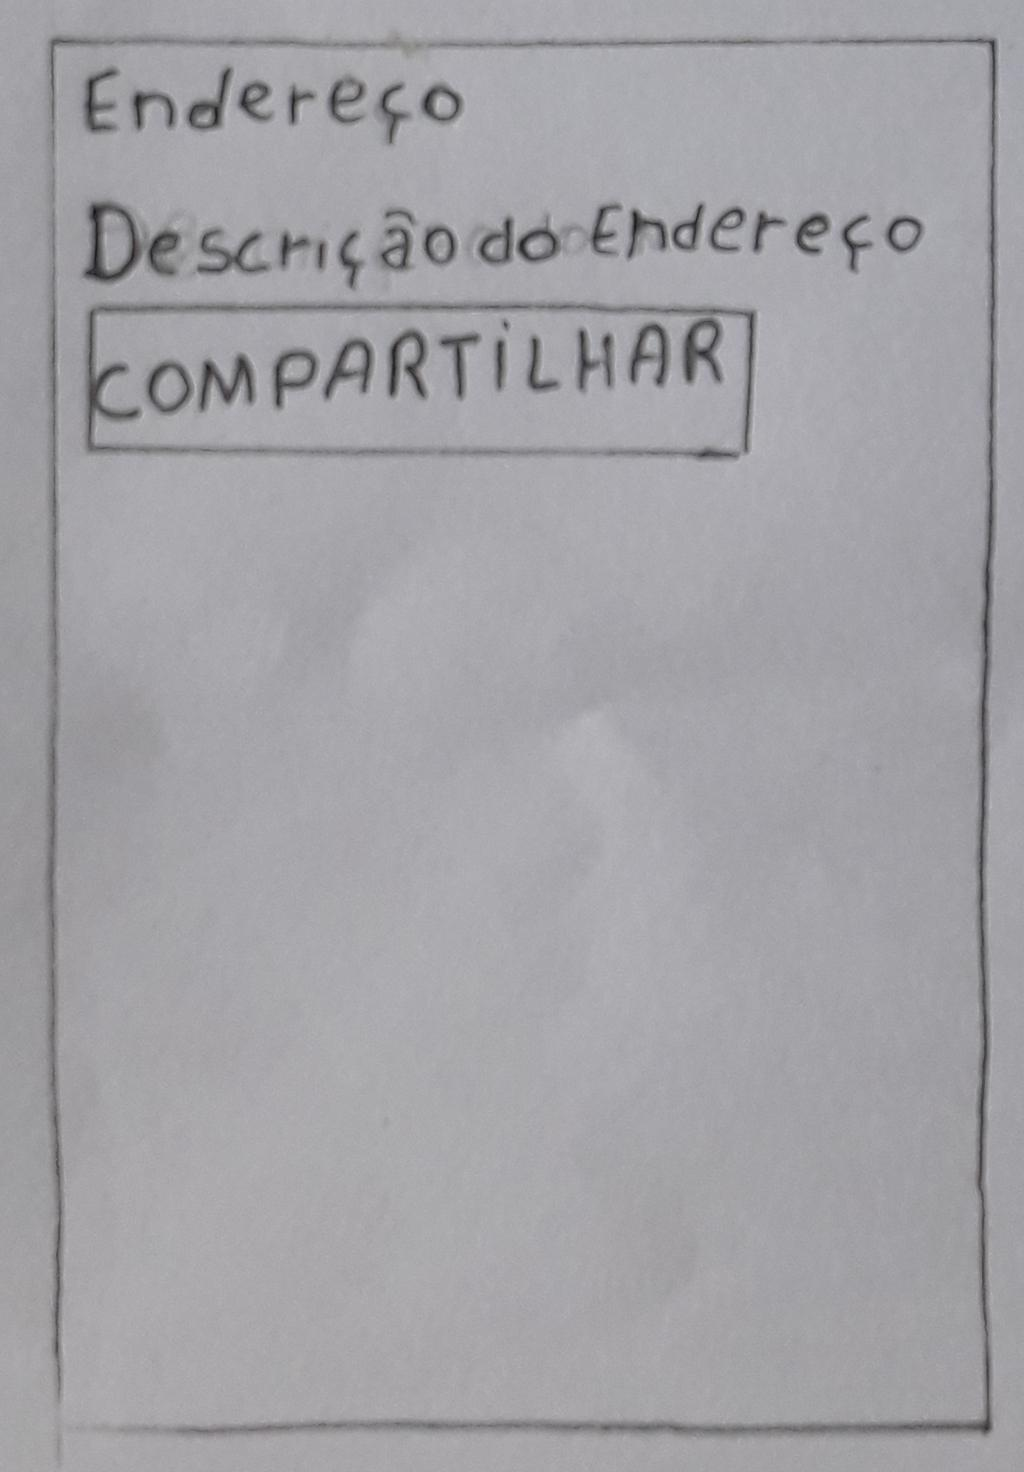Button: (86, 302, 758, 459)
Label: (83, 192, 924, 293), (85, 64, 468, 143)
Screen: (45, 39, 998, 1431)
